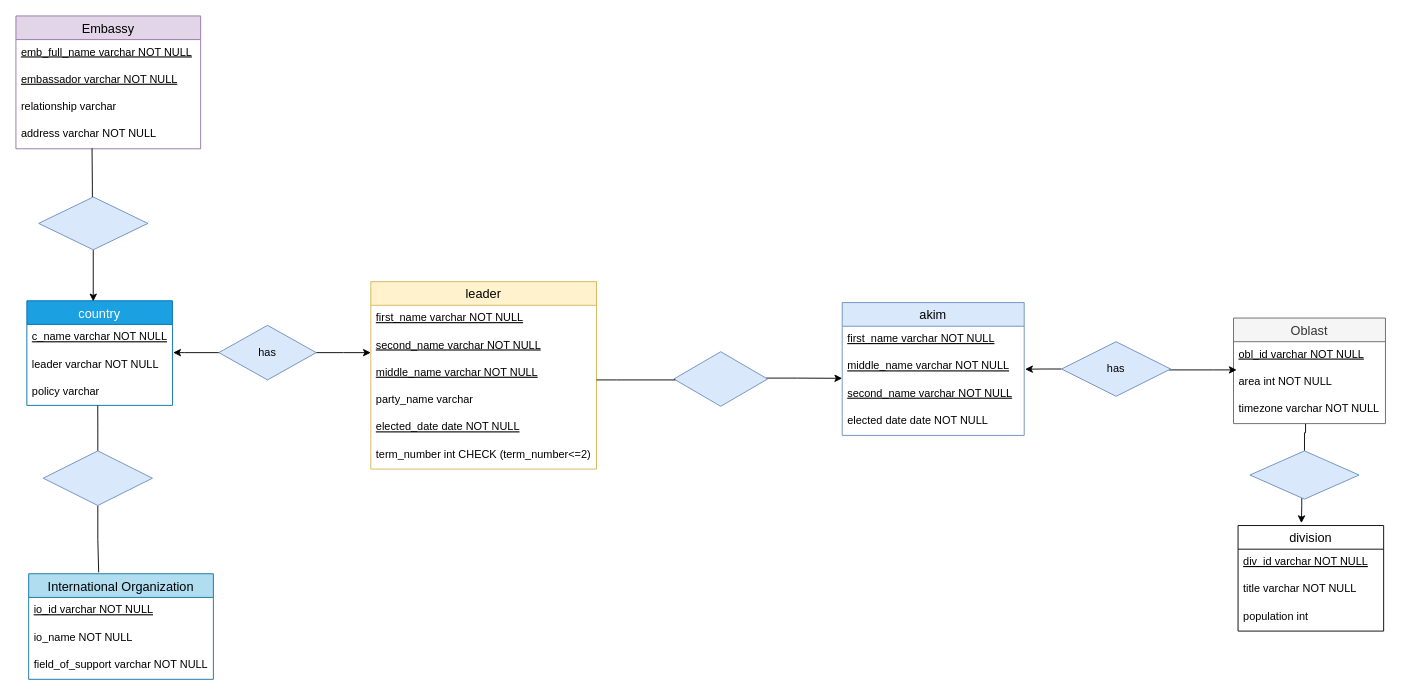
Image size: 1401x698. Some labels were removed from this diagram. The shapes that lost their labels are listed below. From the top down, each one's centre as x and y in pixels, then its label:
the point at 93,223: engage
the point at 720,378: supervisor
the point at 97,478: works
the point at 1304,474: divided
